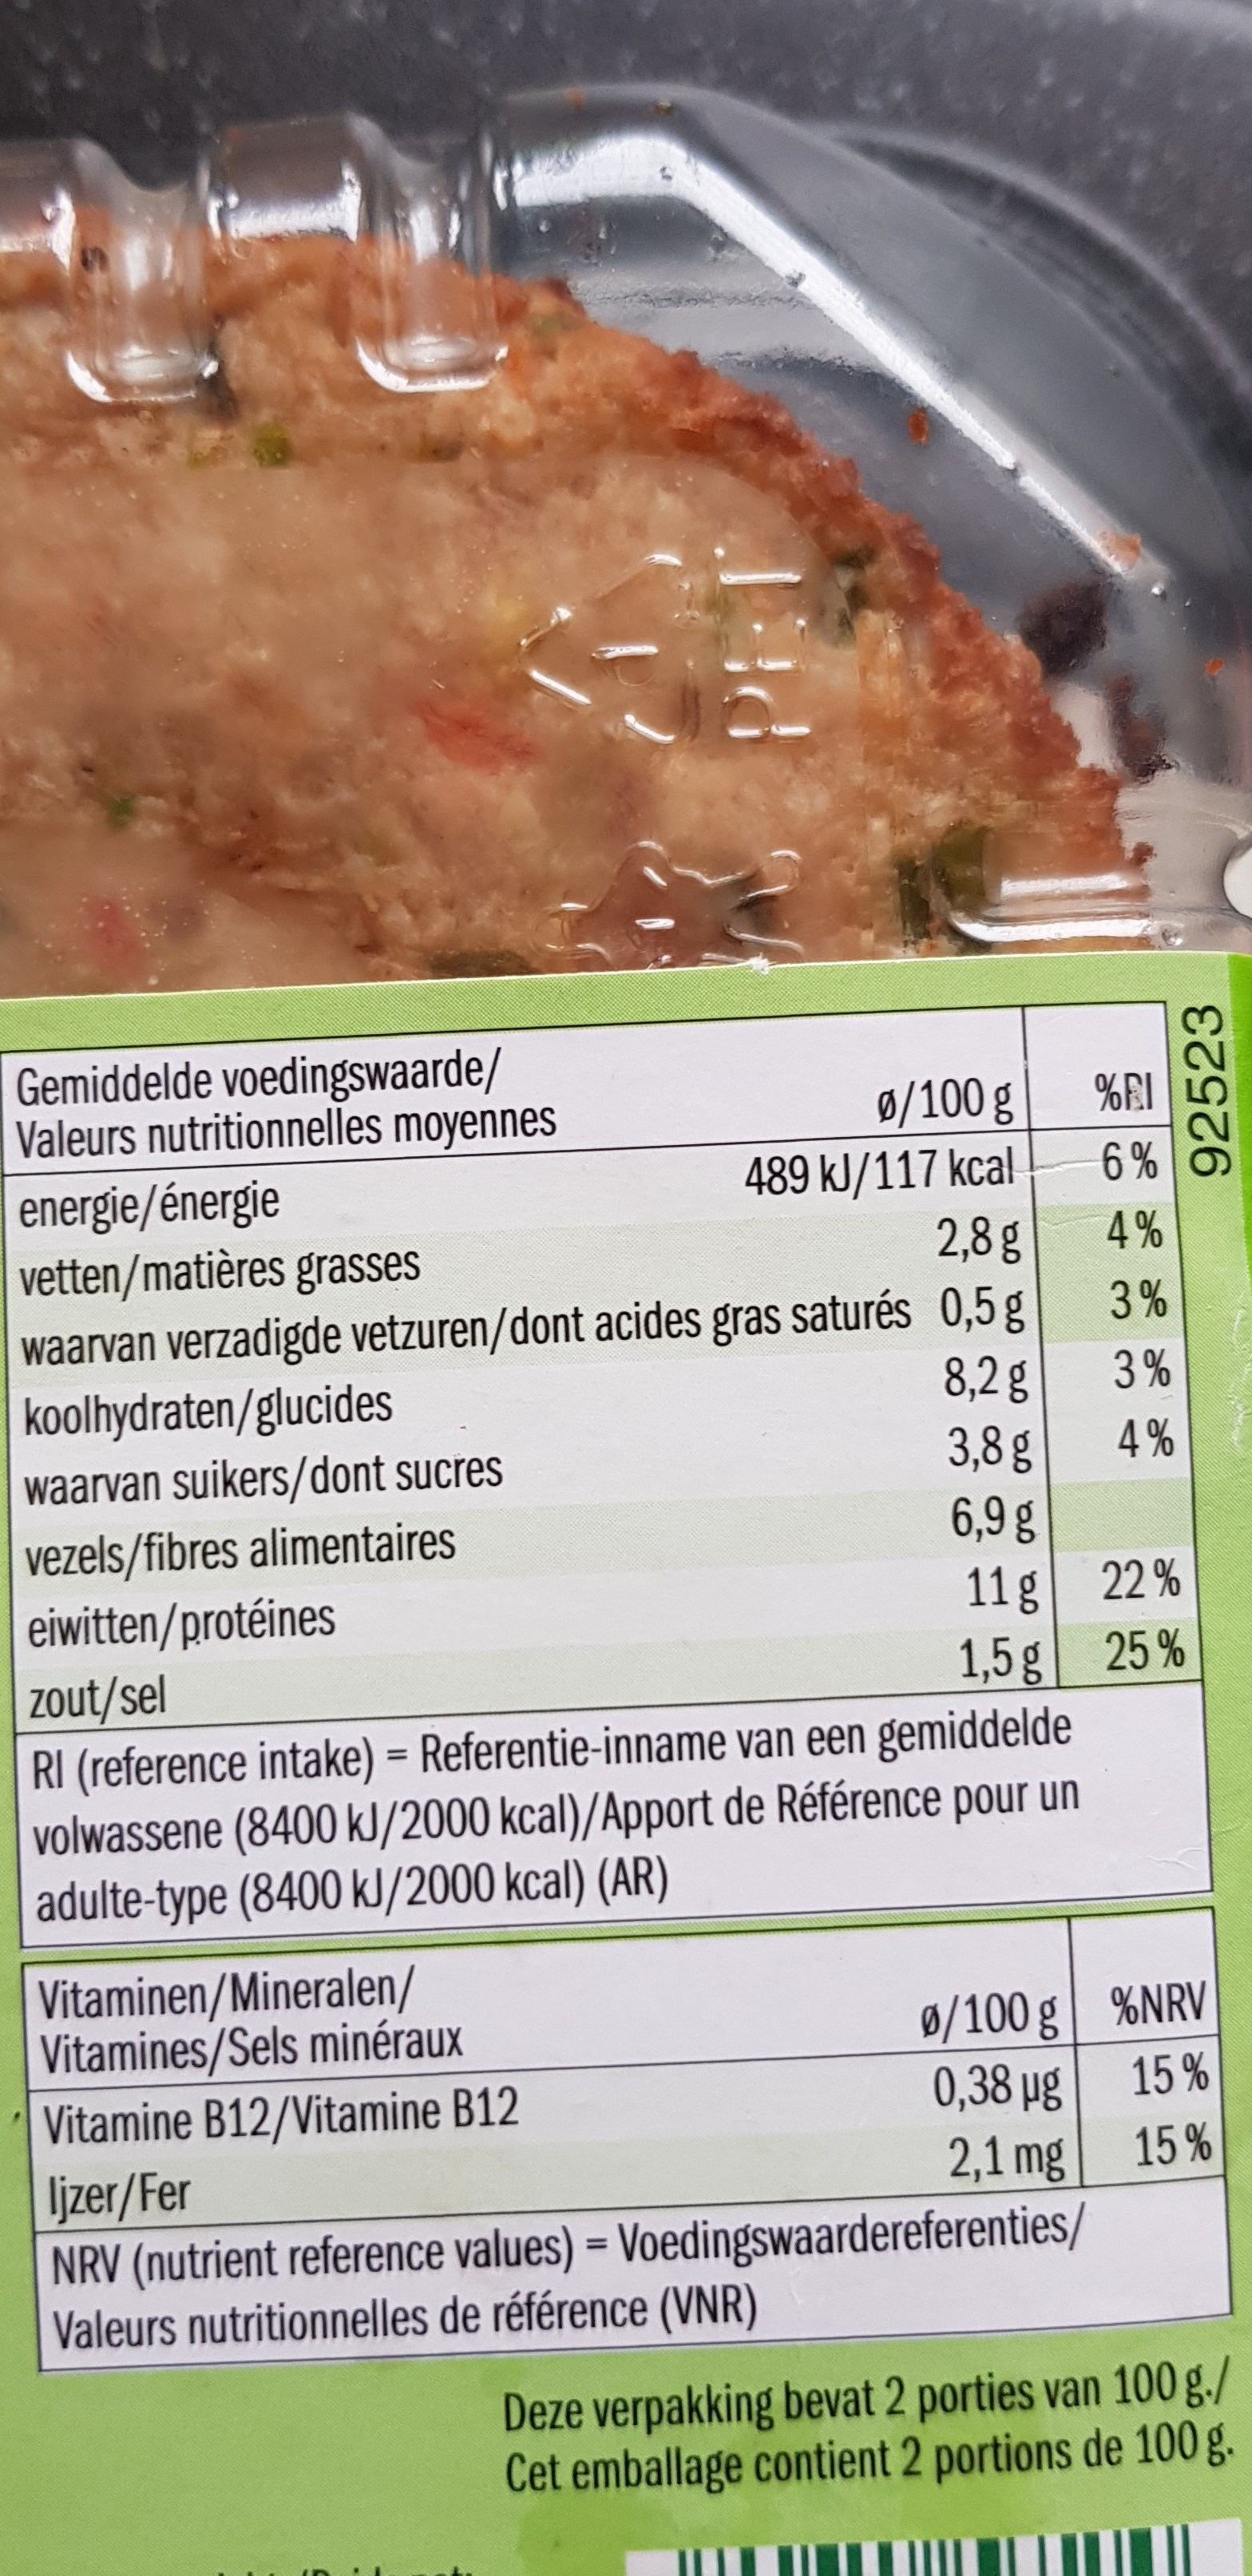column: (7, 1065, 1043, 1710), (1089, 1053, 1183, 1676)
table: (2, 994, 1206, 1735)
